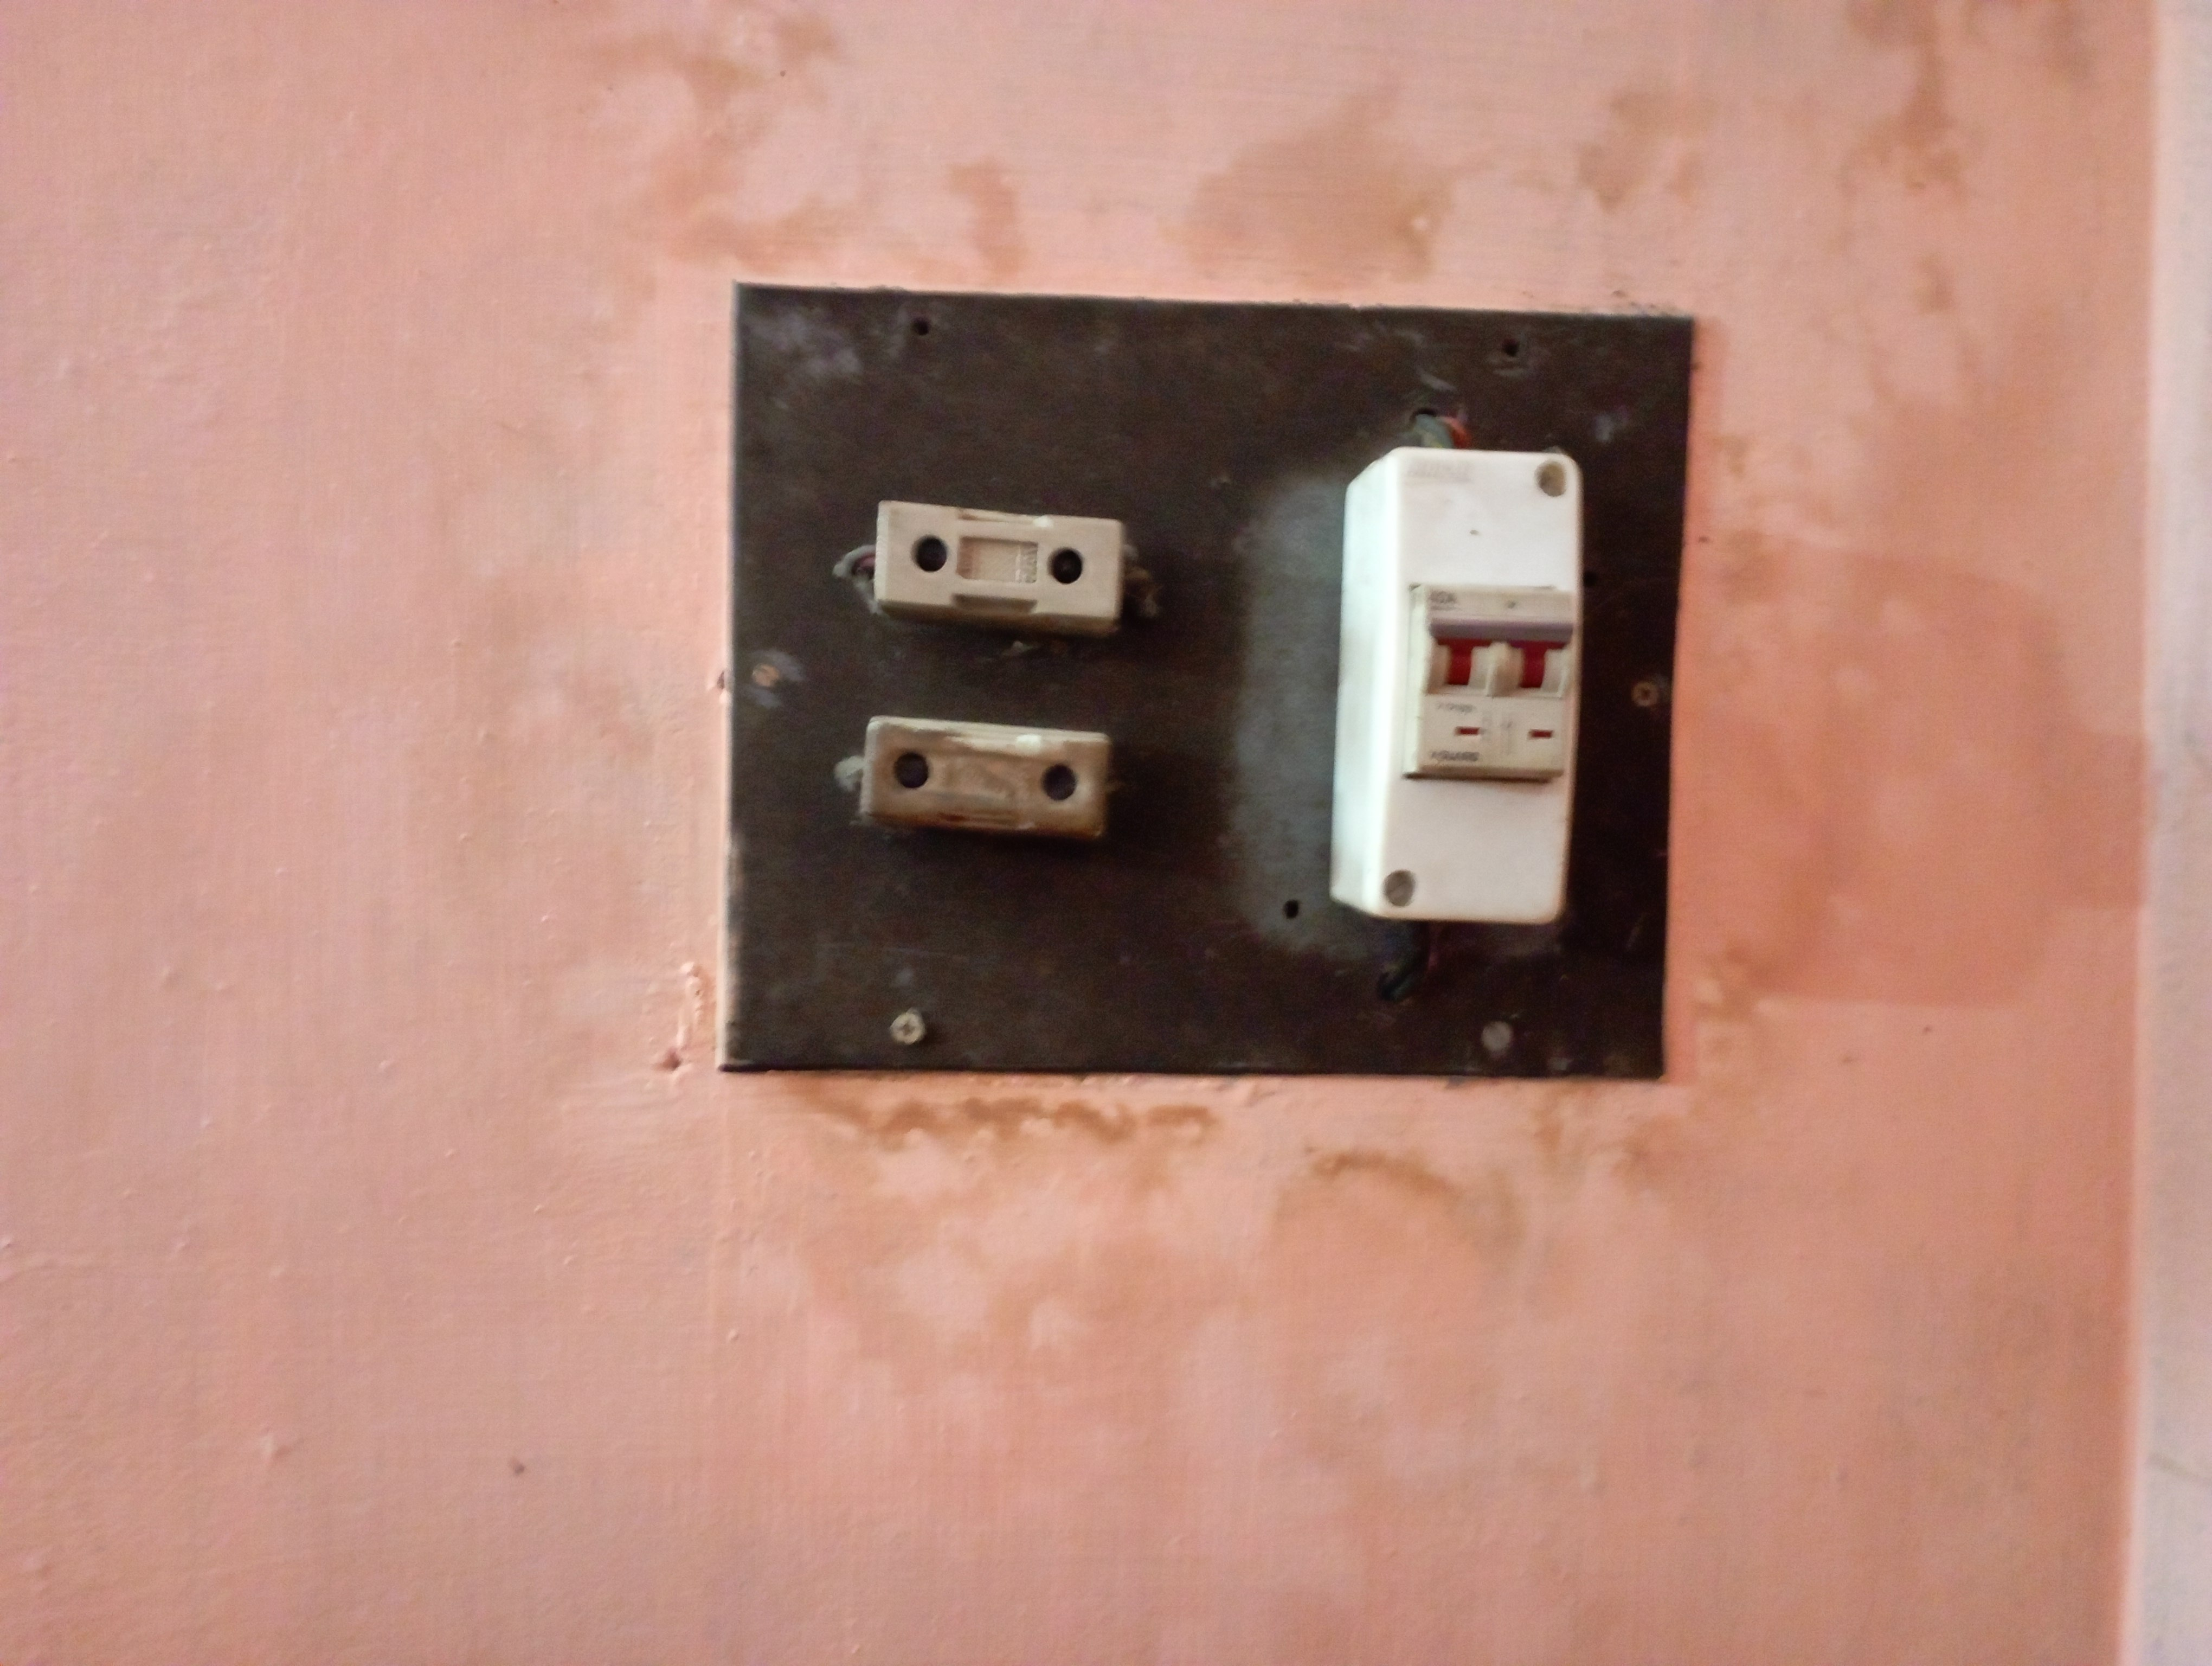ciruit_breaker: (1324, 448, 1595, 938)
fuse: (841, 688, 1128, 870), (859, 497, 1161, 632)
